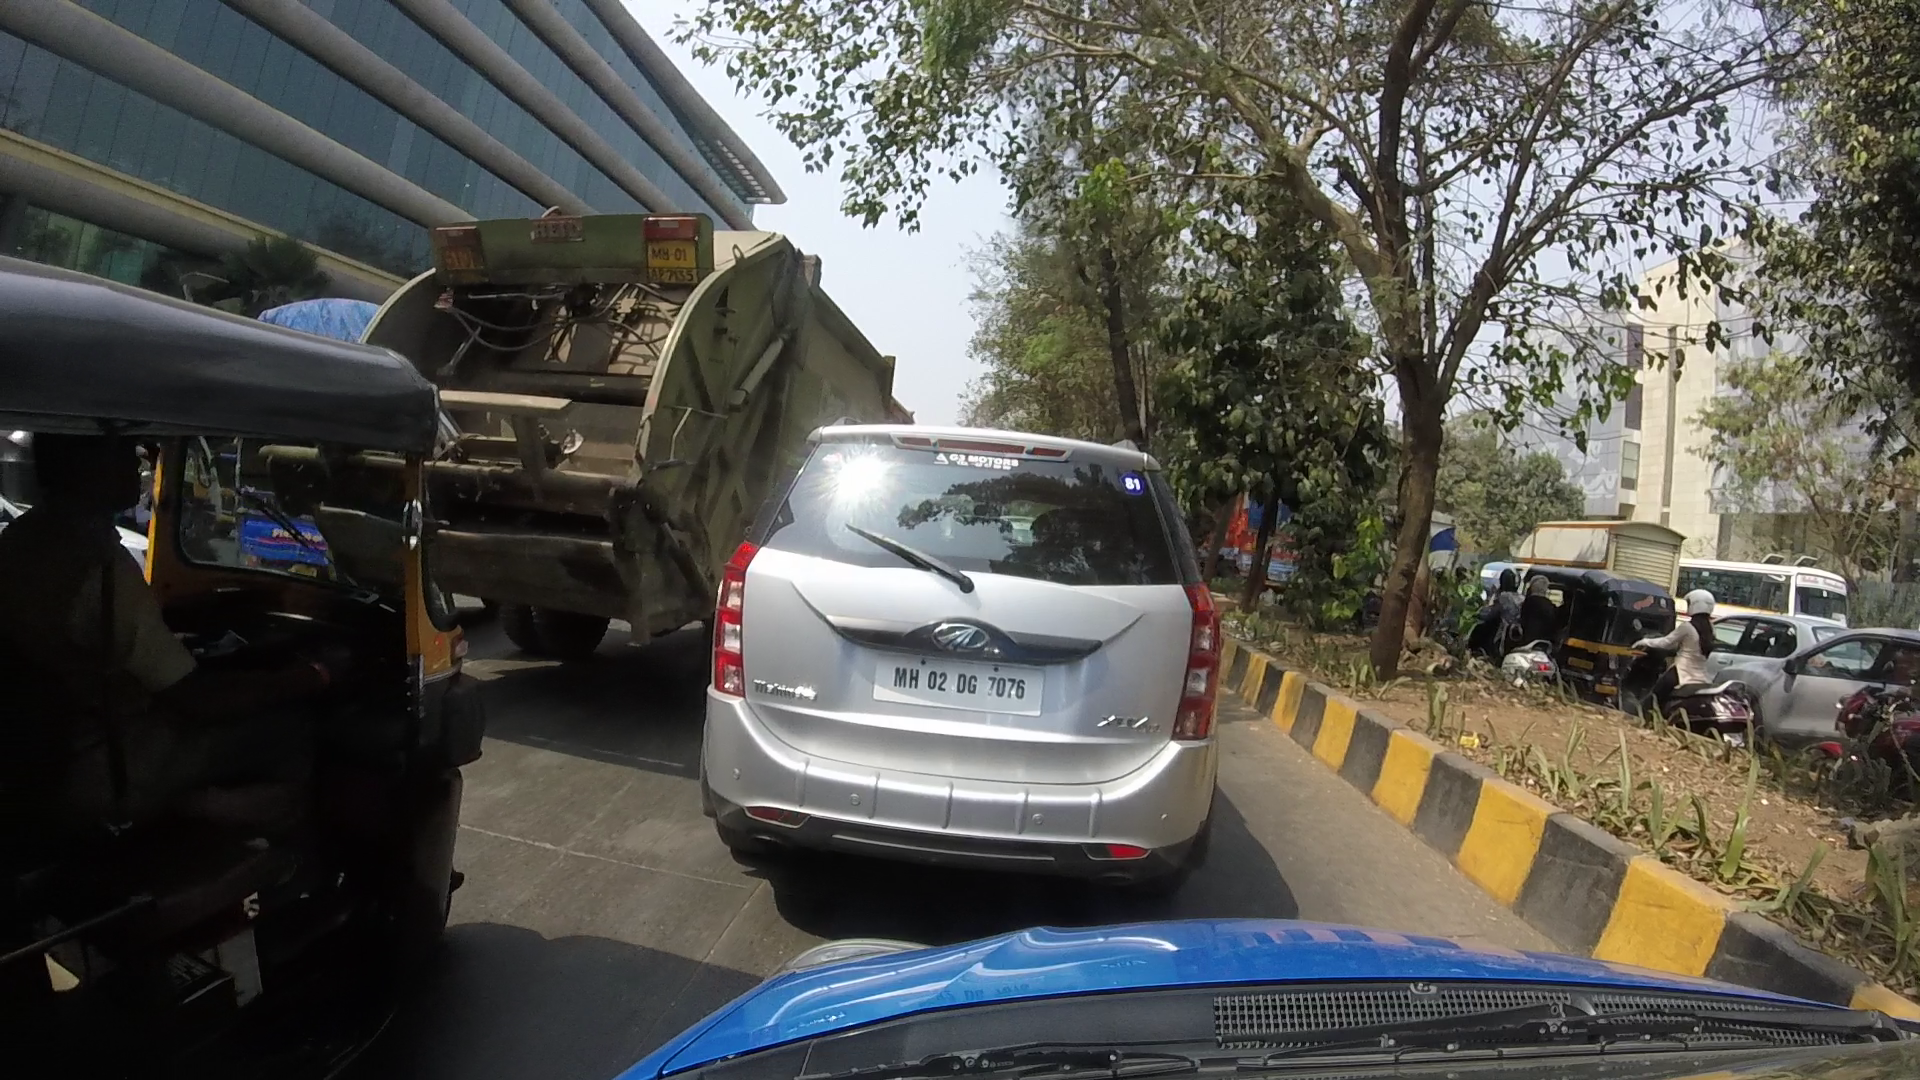car: (716, 411, 1218, 885), (1758, 622, 1911, 742)
rickshaw: (25, 272, 475, 1044), (1495, 556, 1675, 702)
